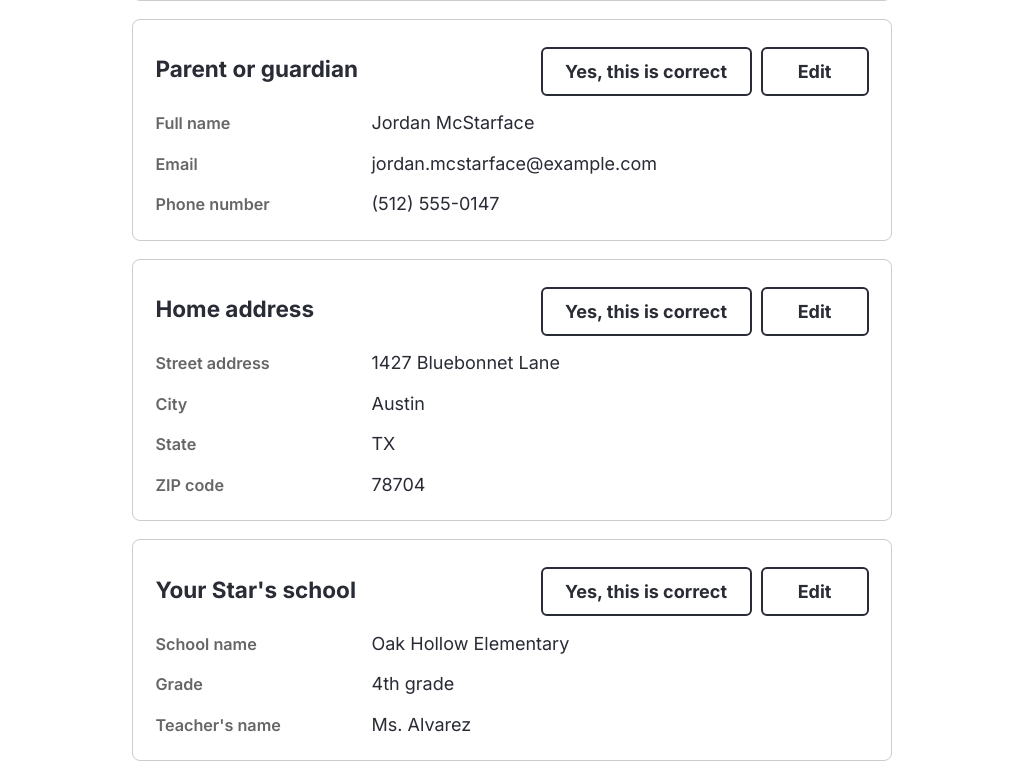
Test case: FamilyTab › saves a new grade from the dropdown
This screenshot has width=1024, height=761.
(page scrolled)
Click the button with aria-label "Edit your Star's school": (814,592) [760,567,868,616]
(page scrolled)
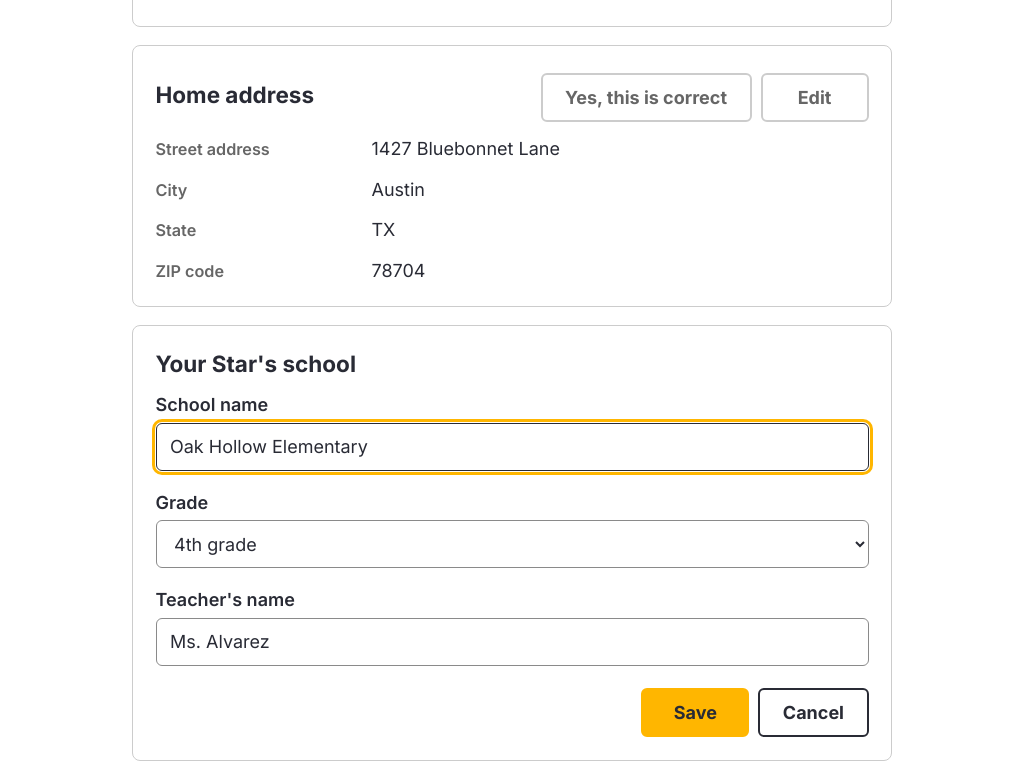
Select "Kindergarten" in the dropdown labelled "Grade": (512,544) [156,520,868,568]
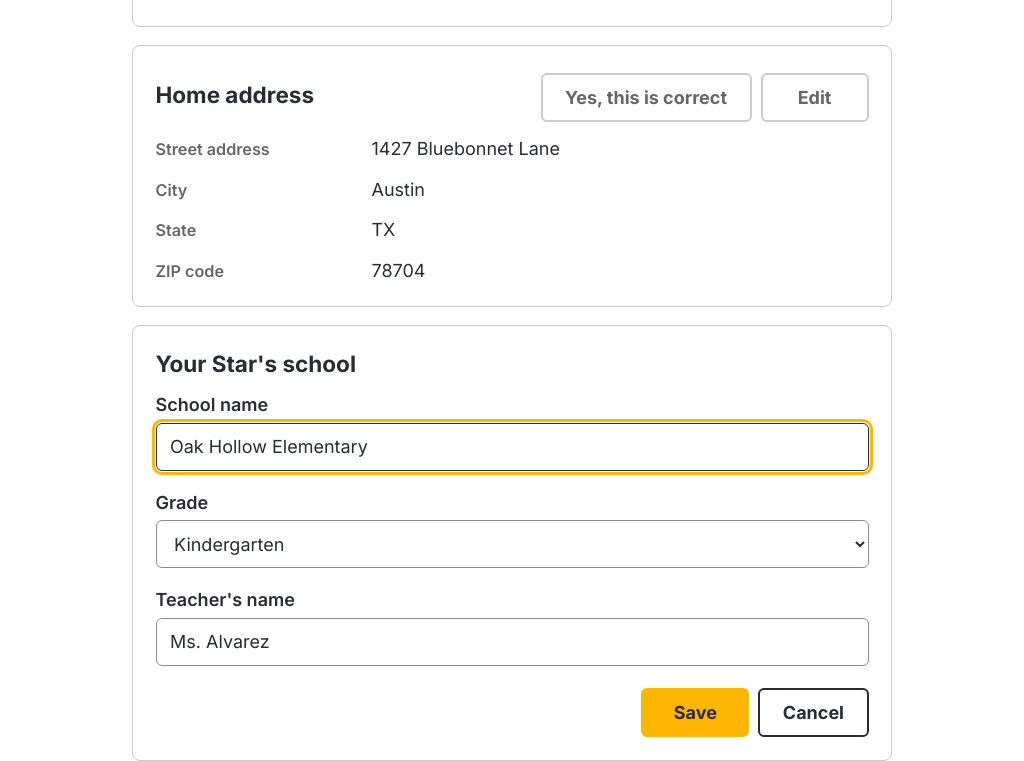
Click the button "Save": (695,713) [641,688,749,737]
(page scrolled)
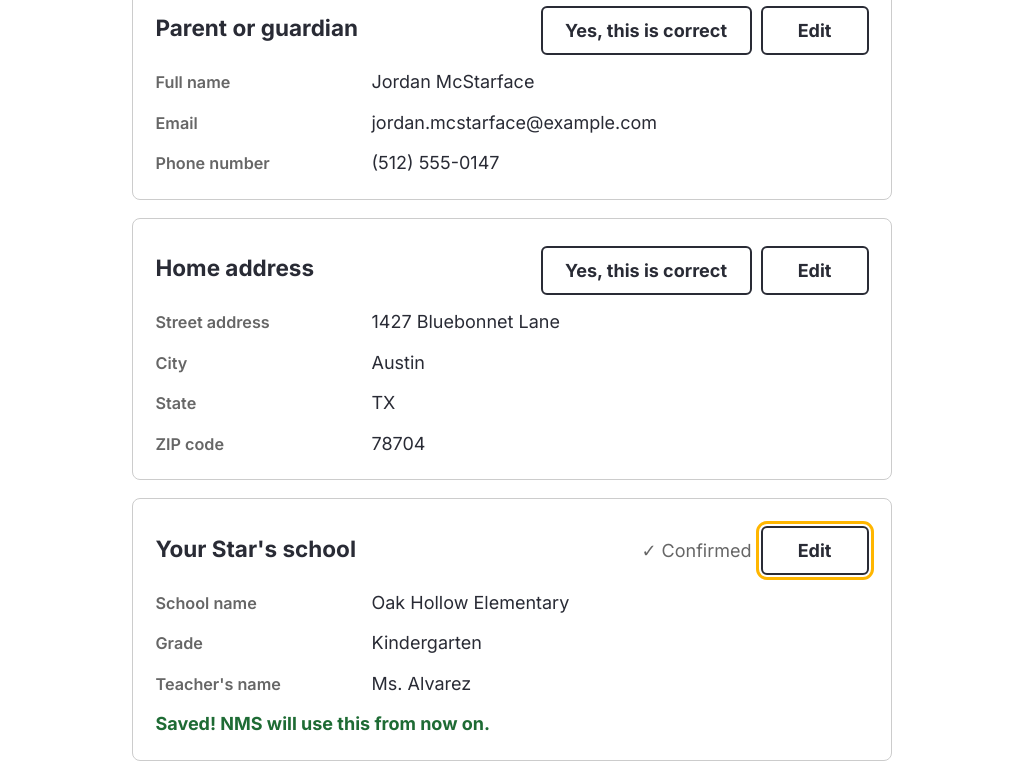
Expected: the text "Kindergarten" is shown, [372,632,482,653]
